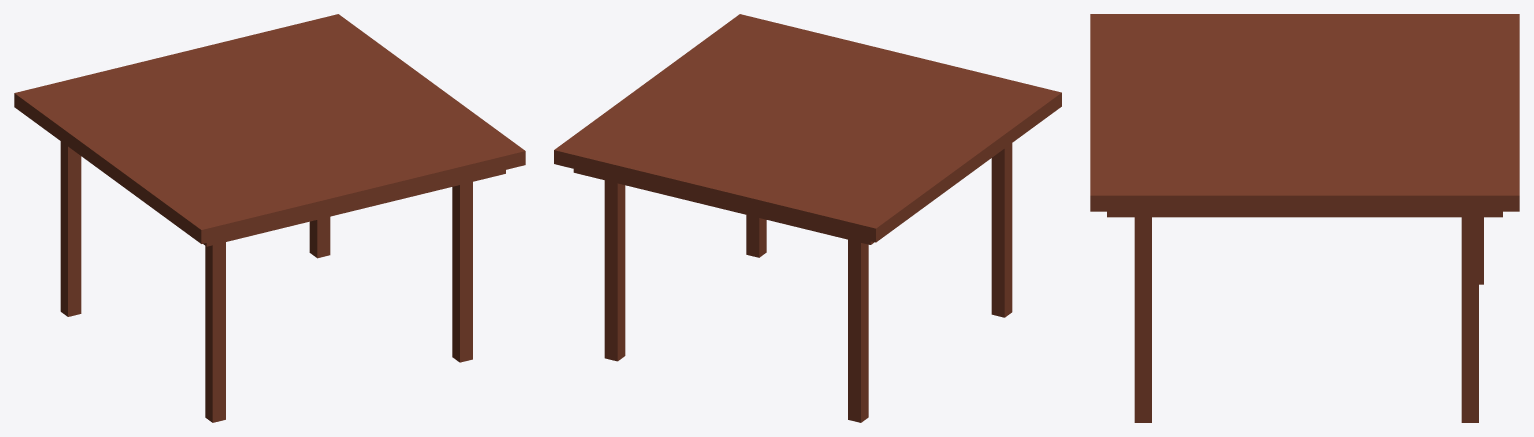
The model's file is stol_by_szymon.fbx.
3 renders of one model, left to right at view 1: azimuth 30°, elevation 25°; view 2: azimuth 150°, elevation 25°; view 3: azimuth 270°, elevation 25°, orthographic. The views are drawn at different scales.
Visible parts, largest first — view 1: Kostka.004; view 2: Kostka.004; view 3: Kostka.004.
Boxes of the visible parts, x1,y1,x2,y2 form: Kostka.004: [14, 14, 525, 422]; Kostka.004: [554, 14, 1061, 422]; Kostka.004: [1090, 14, 1519, 422].
Size of the model in its own units: 10.88 by 6.88 by 10.88.
